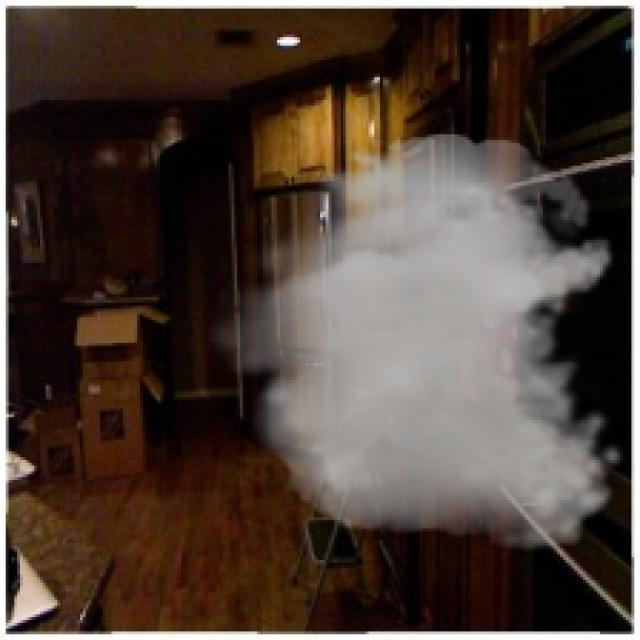Smoke: (200, 134, 626, 552)
